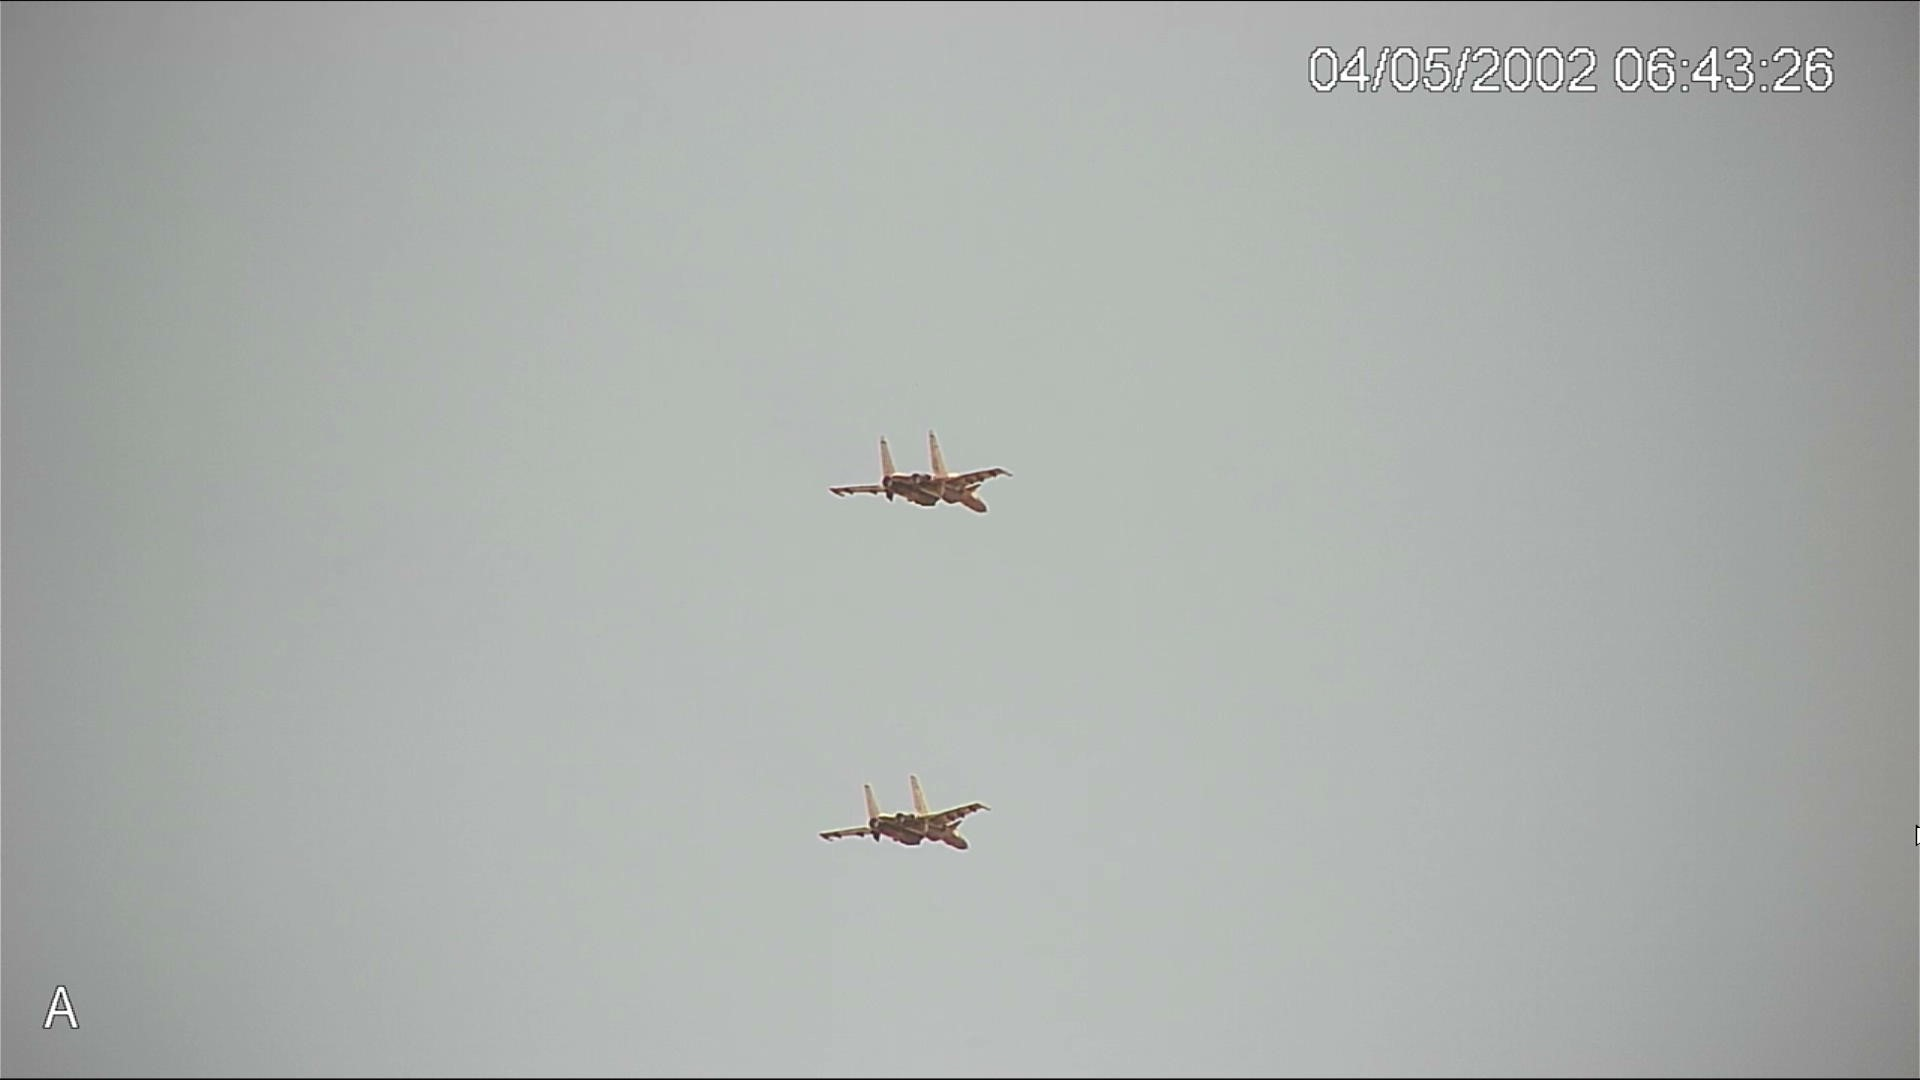SU_30: (825, 430, 1002, 521), (818, 773, 978, 851)
